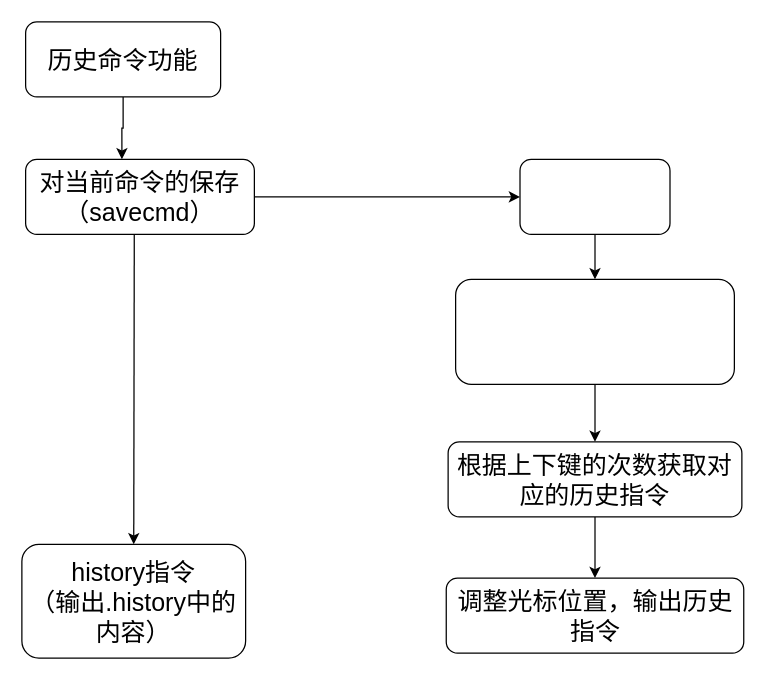
This 766x680 diagram has some shape labels left out. The centre of each missing label's shape, as x and y in pixels:
上下键进行指令切换: [594,196]
保存当前缓冲区内的指令 （维护curcmd字符串）: [594,331]
